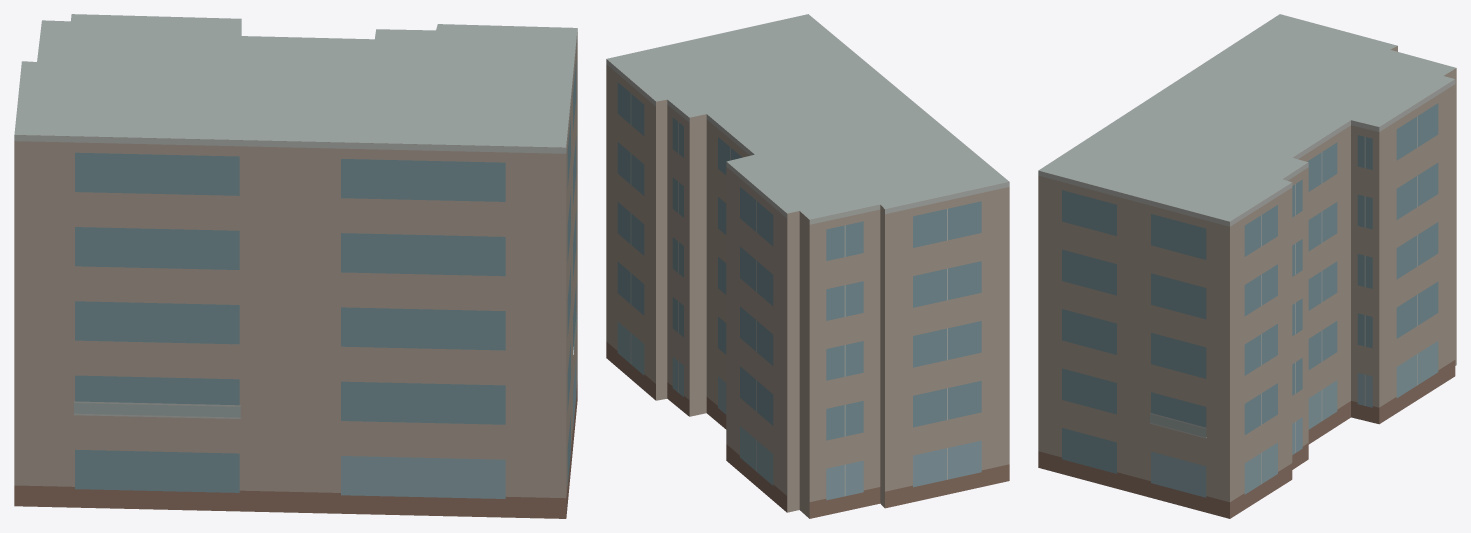
File: survey-upis-32523020.glb
3 renders of one model, left to right at view 1: azimuth 30°, elevation 25°; view 2: azimuth 150°, elevation 25°; view 3: azimuth 270°, elevation 25°, orthographic. The views are drawn at different scales.
Parts seen in each view (by area): view 1: survey-upis-32523020.tmp; view 2: survey-upis-32523020.tmp; view 3: survey-upis-32523020.tmp.
Part boxes in pixels (bbox=[...]): survey-upis-32523020.tmp: bbox=[14, 14, 577, 518]; survey-upis-32523020.tmp: bbox=[606, 14, 1009, 518]; survey-upis-32523020.tmp: bbox=[1038, 14, 1456, 518].
Bounding box in the file's own units: 21.75 × 14.5 × 18.51.
